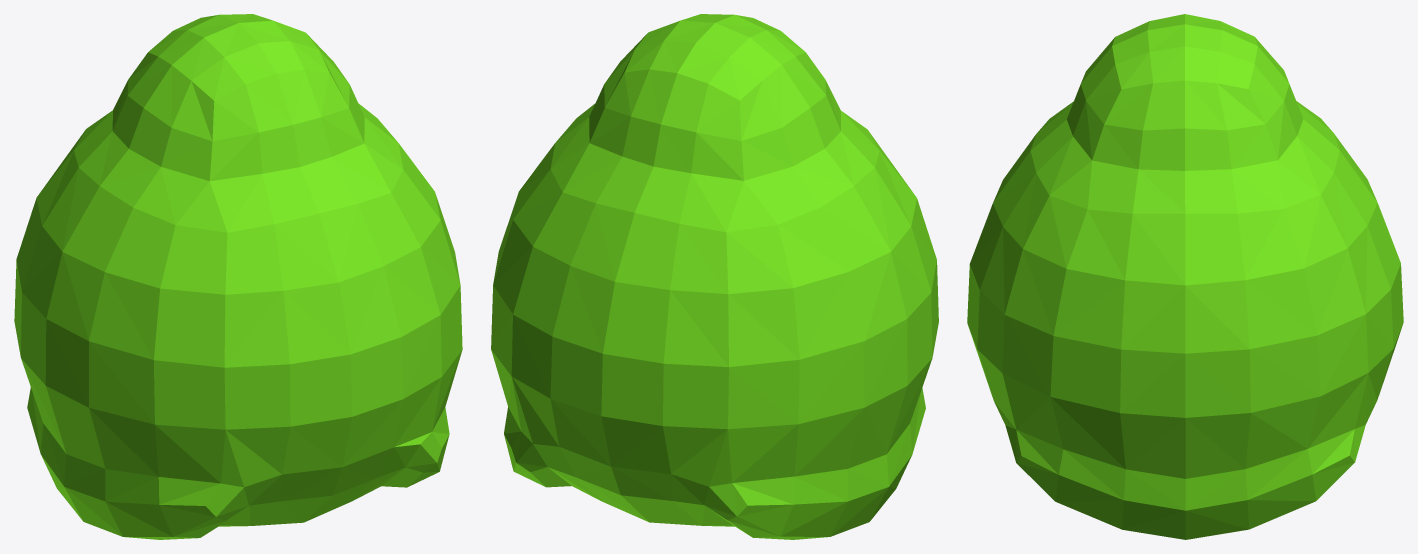
3 renders of one model, left to right at view 1: azimuth 30°, elevation 25°; view 2: azimuth 150°, elevation 25°; view 3: azimuth 270°, elevation 25°, orthographic. The views are drawn at different scales.
Parts seen in each view (by area): view 1: Object_3.002; view 2: Object_3.002; view 3: Object_3.002.
Boxes of the visible parts, x1,y1,x2,y2 form: Object_3.002: (14, 14, 462, 539); Object_3.002: (491, 14, 938, 539); Object_3.002: (967, 14, 1403, 539).
Bounding box in the file's own units: 5.01 × 6.02 × 5.11.
